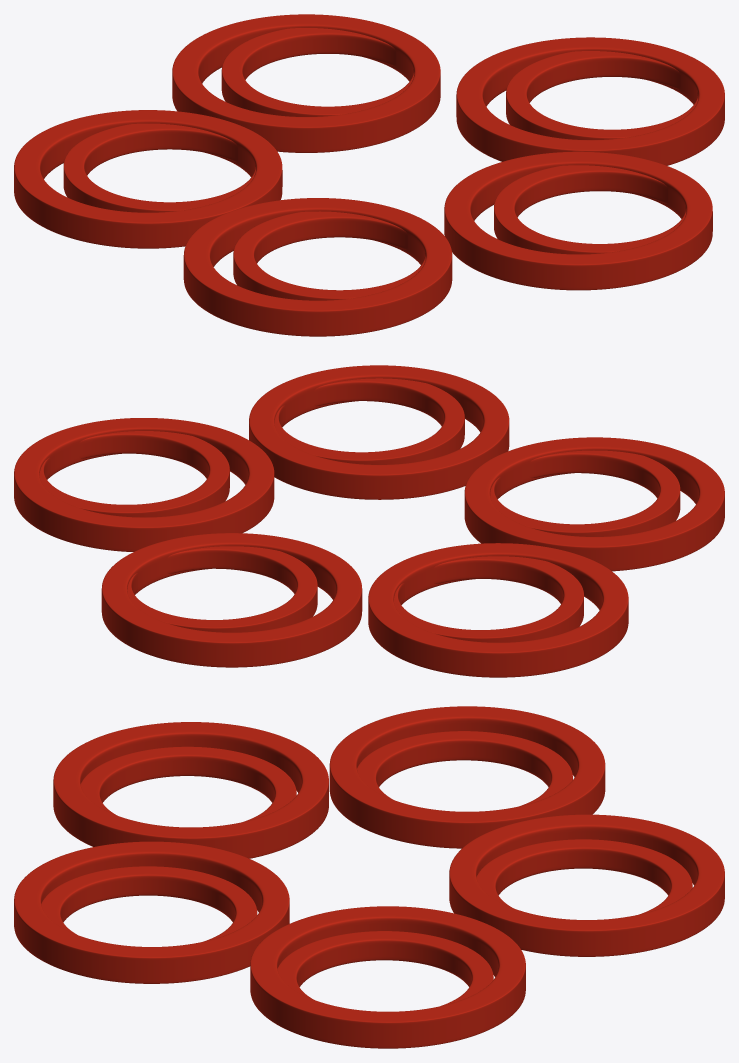
The model's file is tomato.glb.
3 renders of one model, top to bottom at view 1: azimuth 30°, elevation 25°; view 2: azimuth 150°, elevation 25°; view 3: azimuth 270°, elevation 25°, orthographic. The views are drawn at different scales.
Parts seen in each view (by area): view 1: Cylinder.004; view 2: Cylinder.004; view 3: Cylinder.004.
Boxes of the visible parts, box(x1,y1,x2,y2) form: Cylinder.004: box(14, 14, 724, 336); Cylinder.004: box(14, 365, 724, 677); Cylinder.004: box(14, 706, 724, 1048).
Size of the model in its own units: 1.18 by 0.0521 by 1.12.
